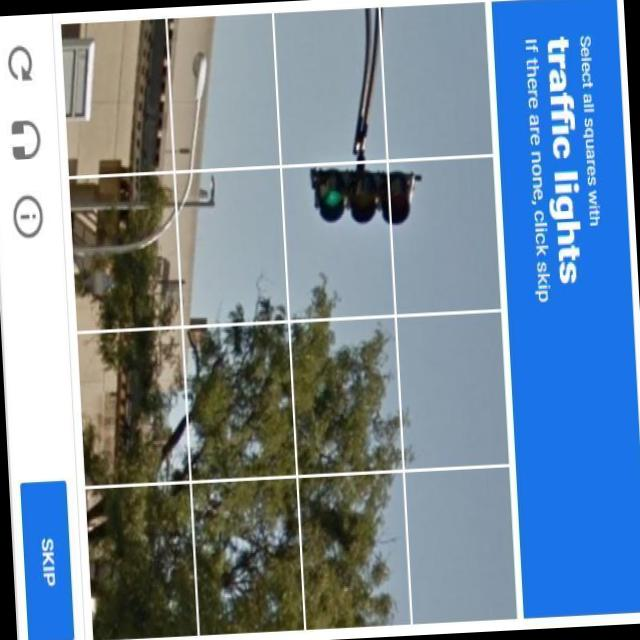green-lights: (310, 176, 349, 220)
